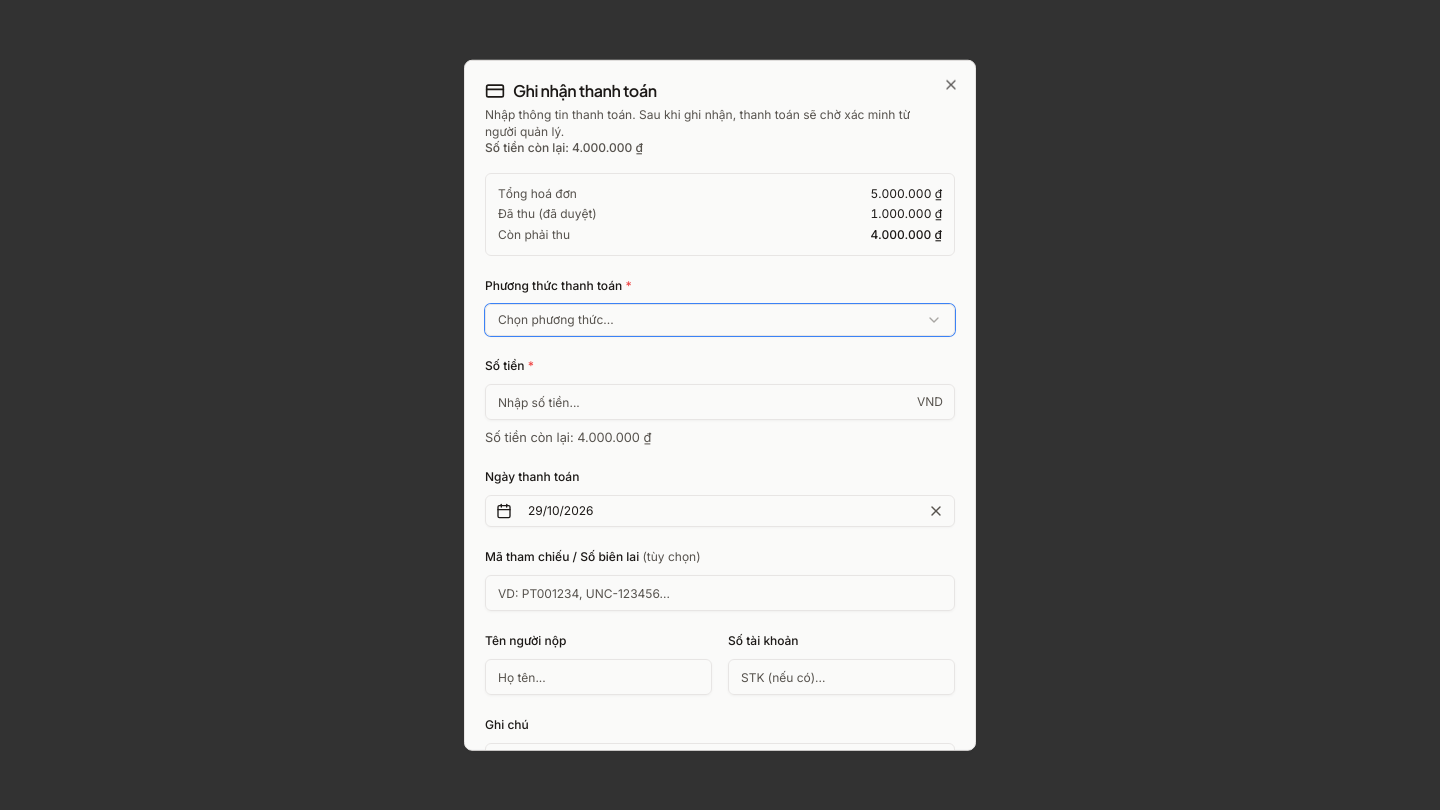
Test: PaymentRecordDialog — vòng xác nhận nghi trùng › đang gửi ⇒ KHOÁ ba trường mà phiếu ràng buộc vào
Click the dropdown named "phương thức thanh toán" at [556, 319], box [485,304,955,336]
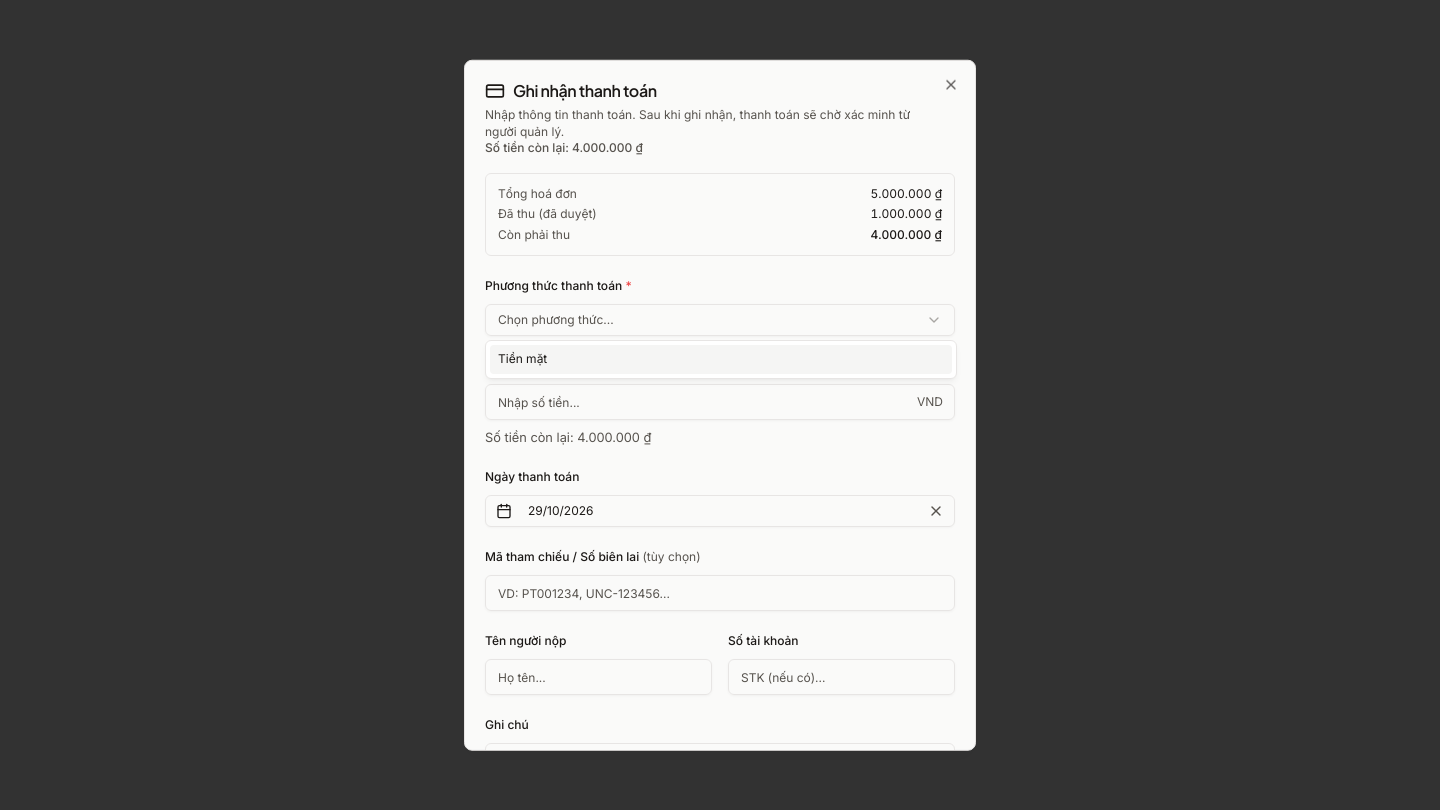
Click the option "Tiền mặt" at [523, 358], box [490,345,952,374]
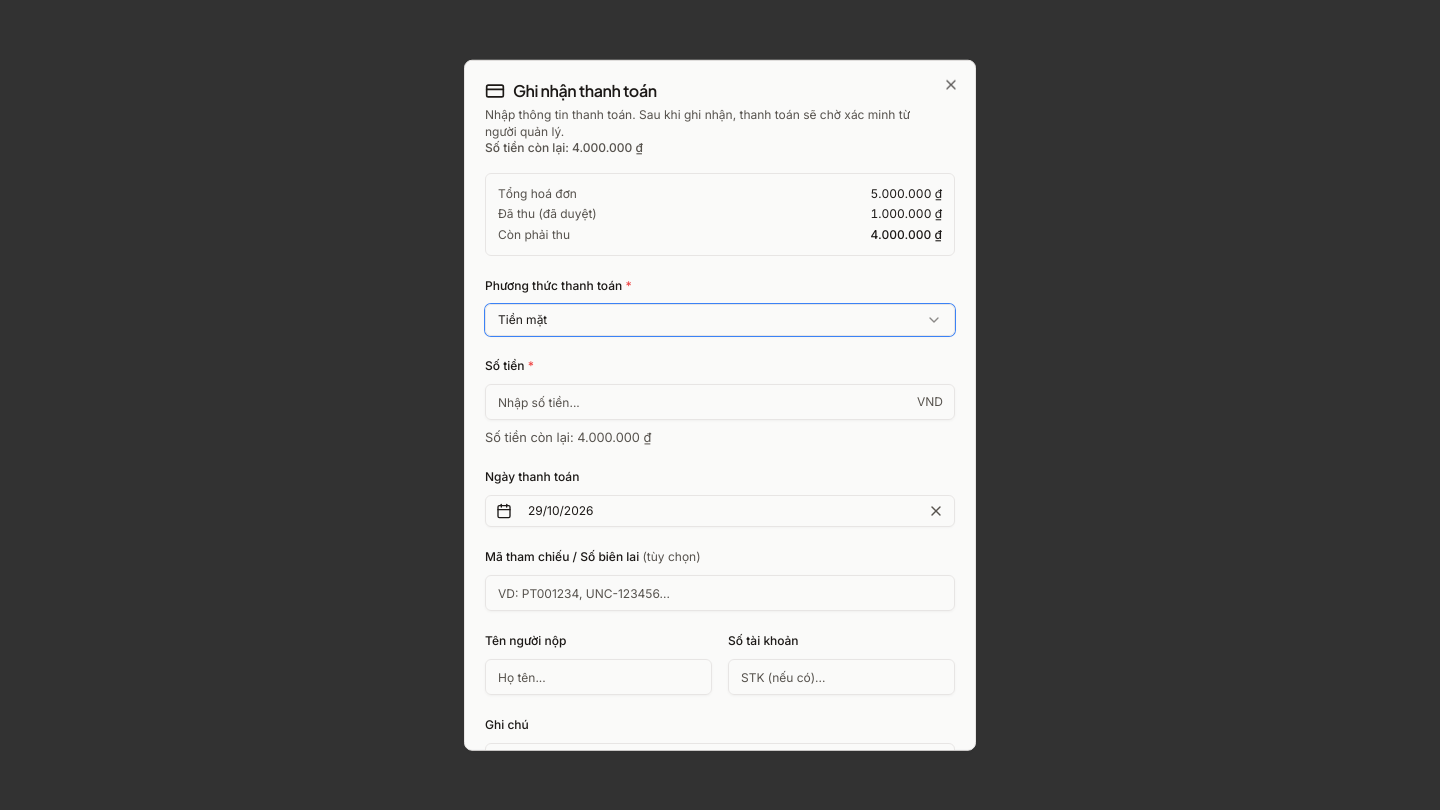
Type "1000000" into the field with placeholder "Nhập số tiền..." at [720, 402], box [485,384,955,420]
(page scrolled)
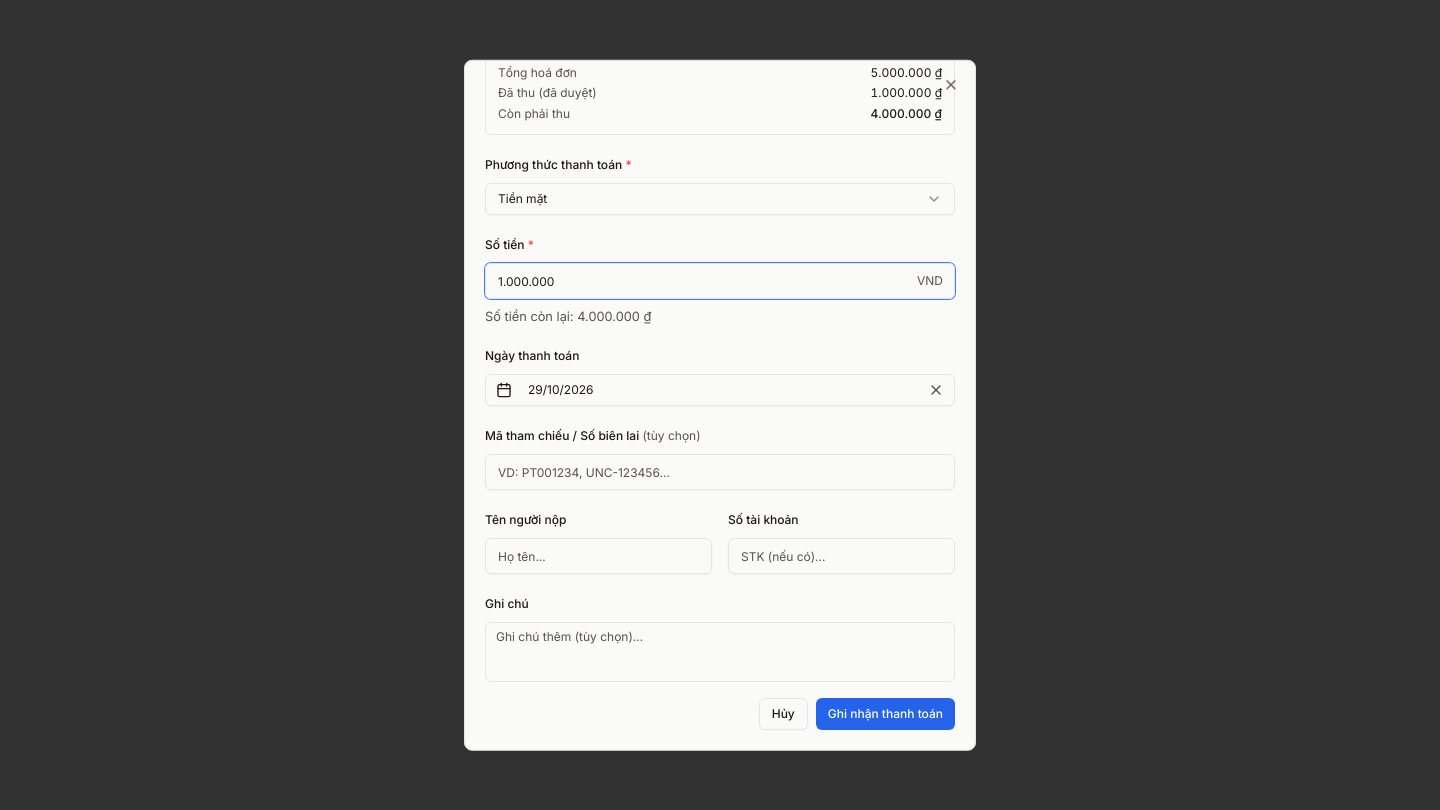
Click the button "Ghi nhận thanh toán" at [885, 714], box [816,698,955,730]
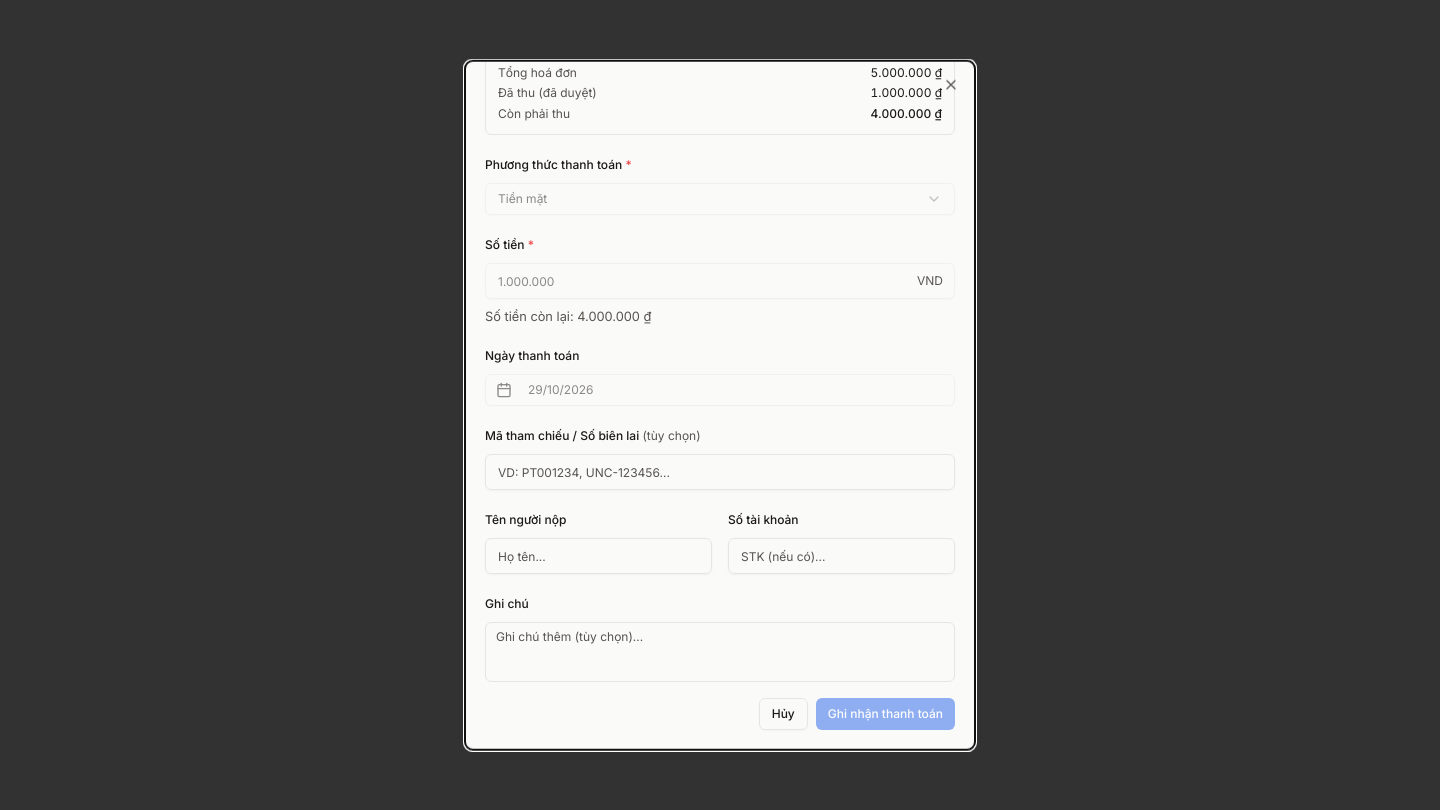
Now the field with placeholder "Nhập số tiền..." is disabled, box [485,263,955,299]
Now the dropdown named "phương thức thanh toán" is disabled, box [485,183,955,215]
